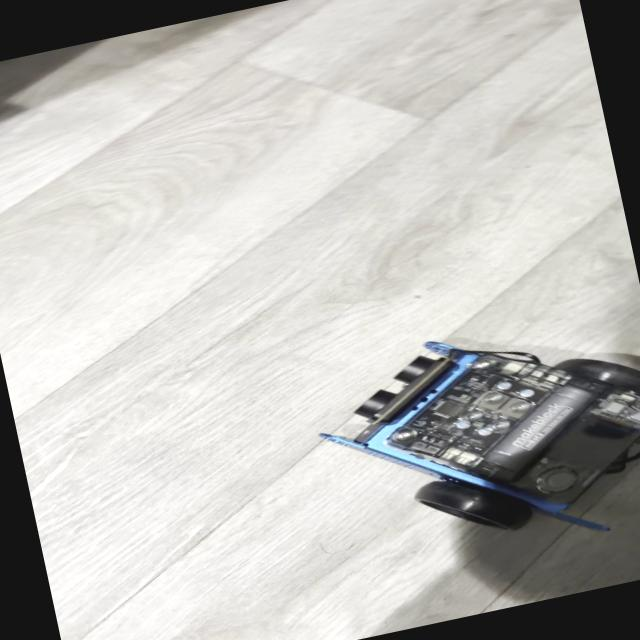mbot-detection: (282, 288, 640, 599)
